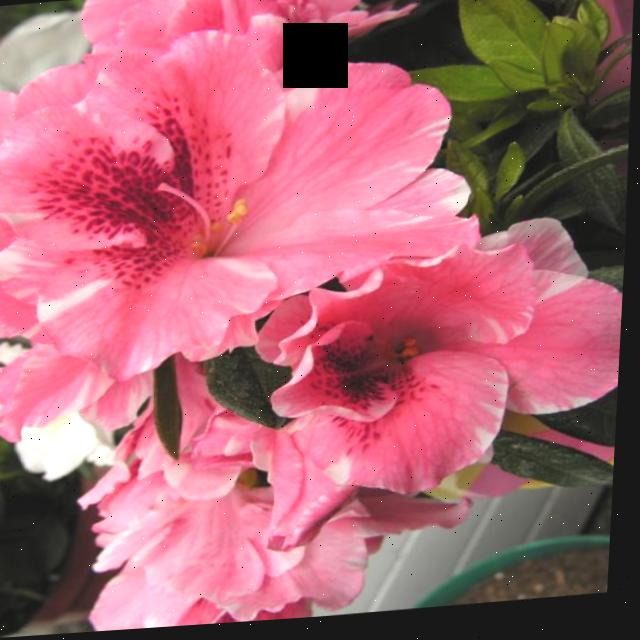azalea: (217, 207, 614, 564), (0, 30, 405, 328), (87, 423, 368, 634)
